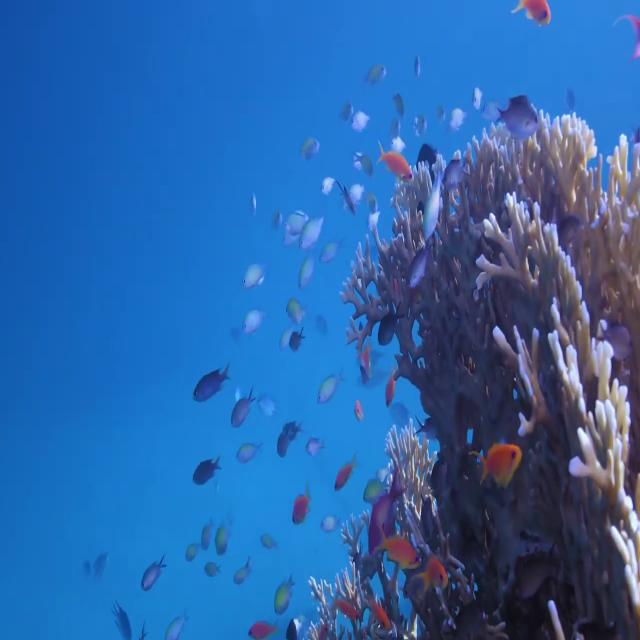fish: (464, 424, 530, 492), (490, 84, 548, 150), (365, 519, 425, 580), (184, 349, 238, 415), (376, 128, 418, 192), (184, 449, 228, 494), (228, 372, 260, 433), (515, 0, 562, 41), (422, 532, 452, 592), (260, 571, 297, 619), (286, 473, 314, 536), (141, 546, 171, 596), (324, 448, 352, 493), (286, 324, 316, 359), (275, 409, 305, 443), (271, 427, 291, 466), (244, 614, 276, 634)
